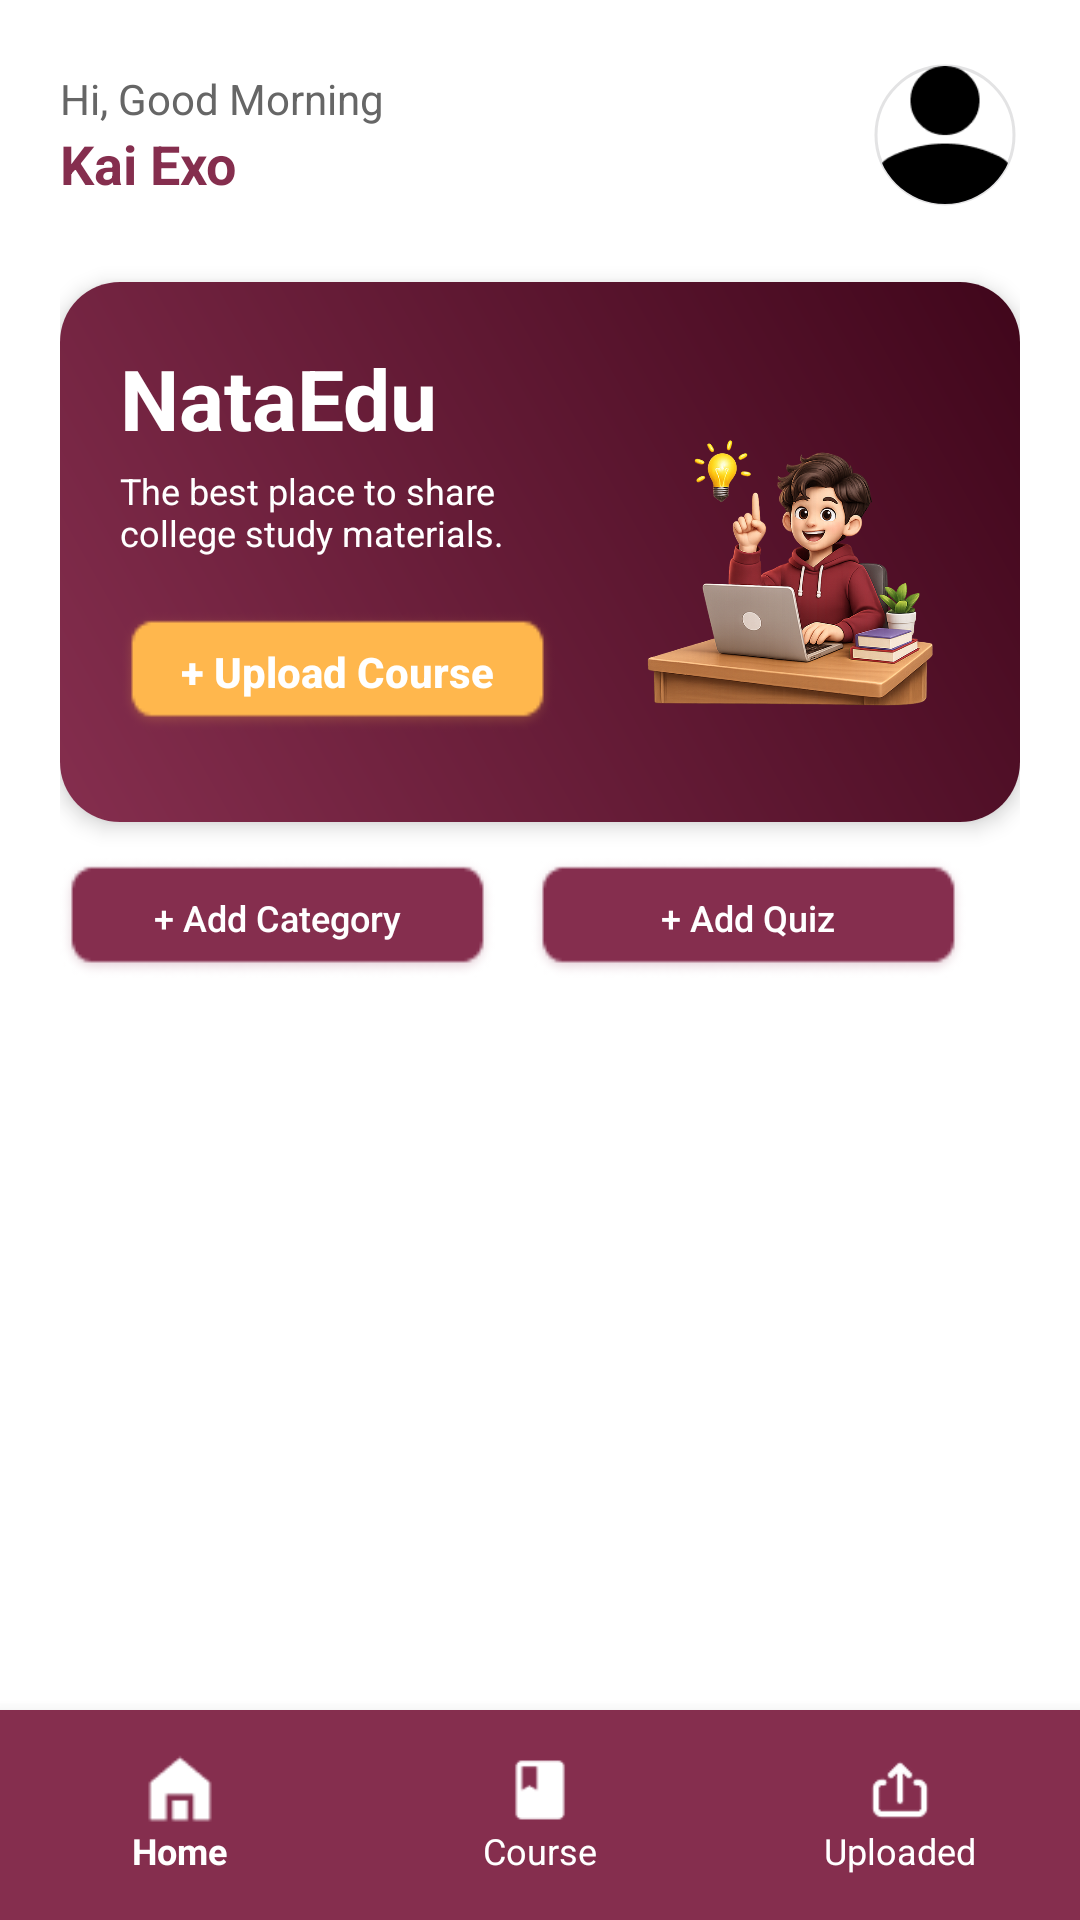

Named icons in this screenshot (1080px×1920px) and their bounding boxes, [x1=x1, y1=y1, x2=x2, y2=y2]:
fotoprofil: [x1=875, y1=65, x2=1015, y2=205]
gambarcw homepage: [x1=647, y1=440, x2=933, y2=705]
